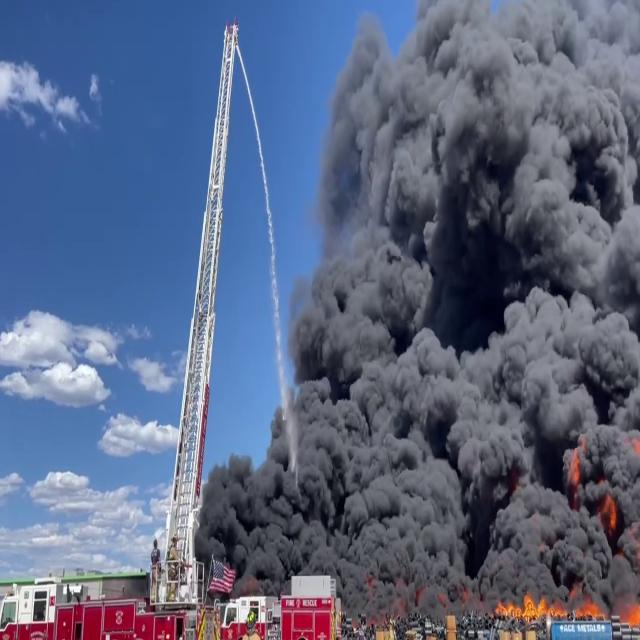Fire: (494, 584, 632, 634)
Smoke: (197, 0, 640, 589)
